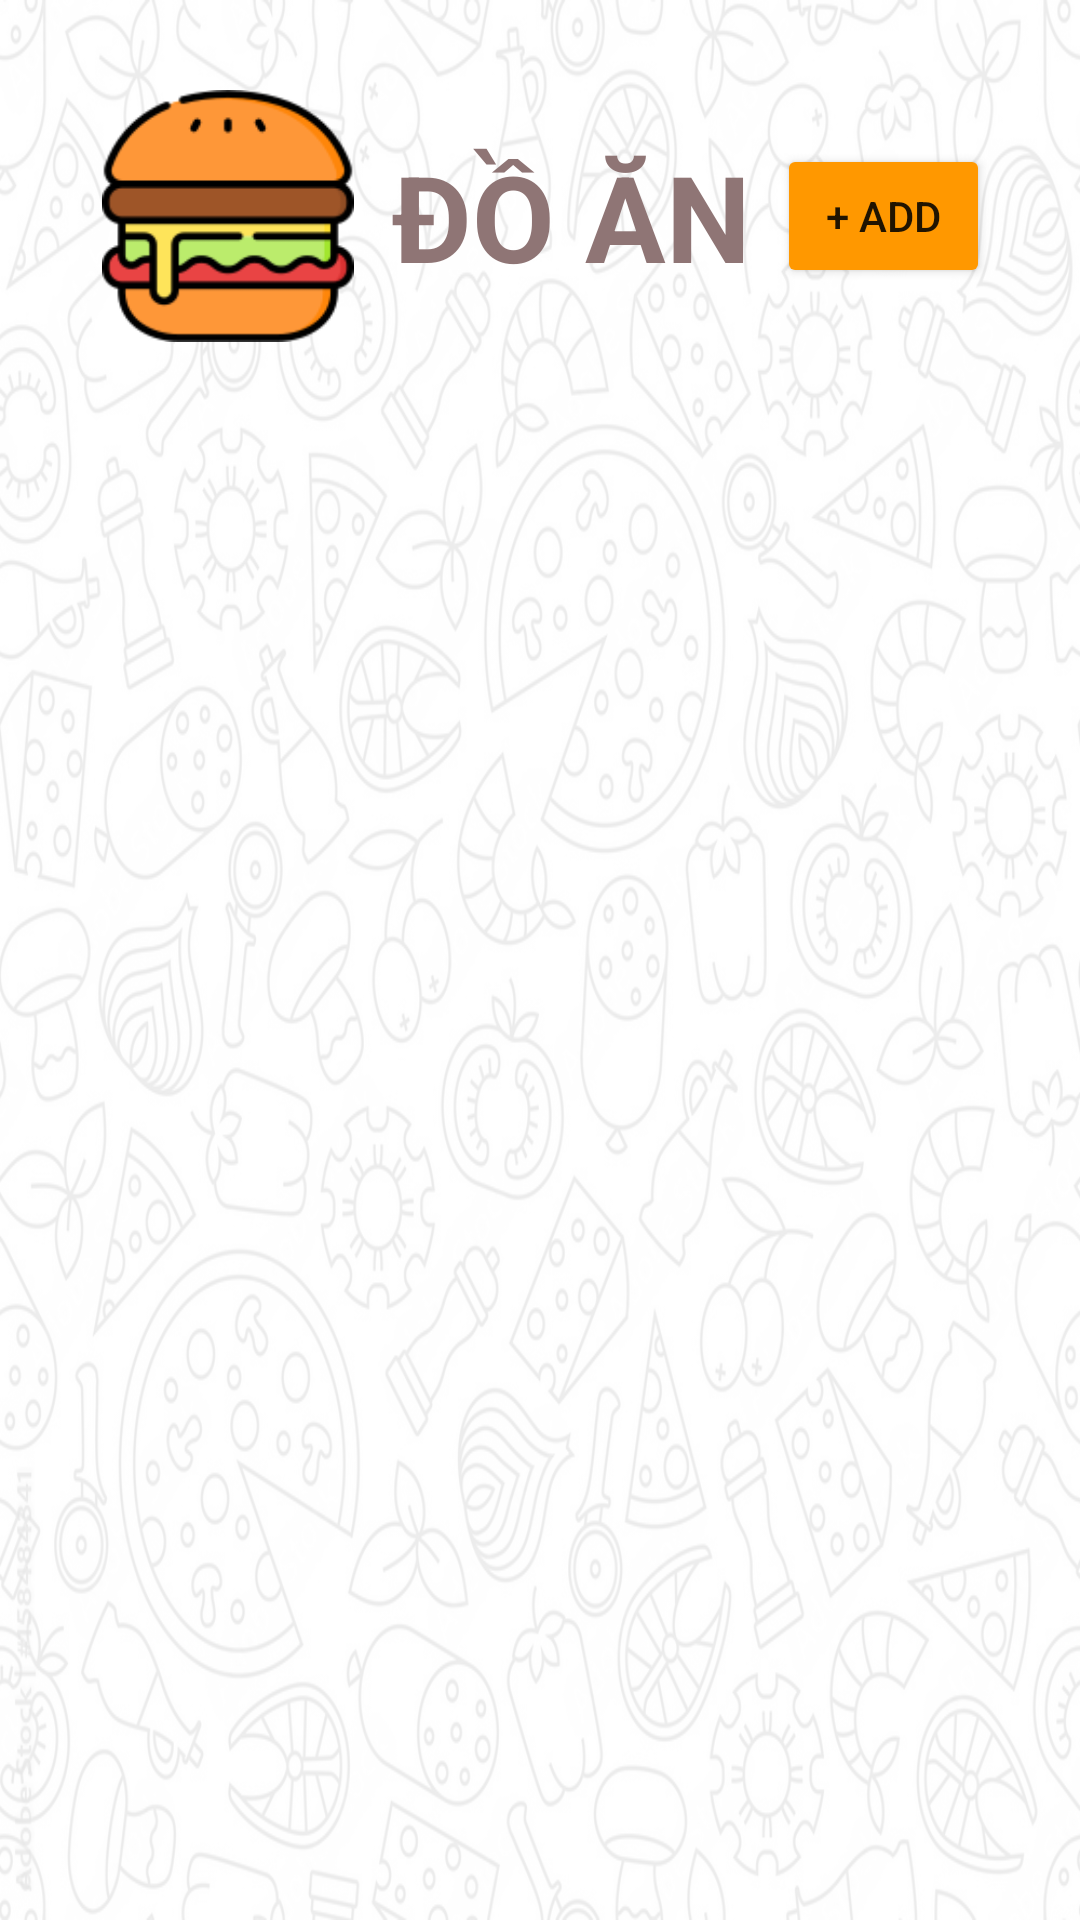

Locate icon controls on the screen. Image size 1080 × 1920, boxes as (x1, y1, x2, y2).
food: (102, 90, 354, 342)
